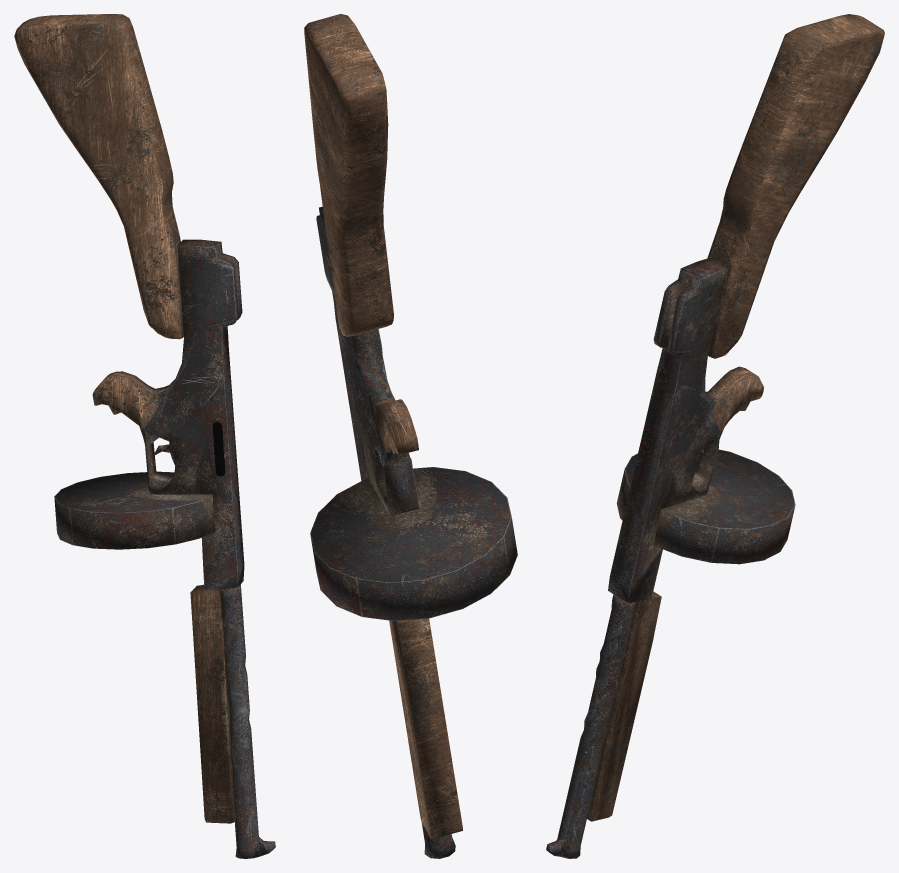
Rendered from Anim_idle_ametralladora_objetos.0031.obj.
3 renders of one model, left to right at view 1: azimuth 30°, elevation 25°; view 2: azimuth 150°, elevation 25°; view 3: azimuth 270°, elevation 25°, orthographic. The views are drawn at different scales.
Visible parts, largest first — view 1: Ametralladora1; view 2: Ametralladora1; view 3: Ametralladora1.
Boxes of the visible parts, bbox=[...] form: Ametralladora1: bbox=[14, 14, 275, 858]; Ametralladora1: bbox=[304, 14, 517, 858]; Ametralladora1: bbox=[546, 14, 884, 858].
Bounding box in the file's own units: 1.29 × 5.86 × 2.22.
